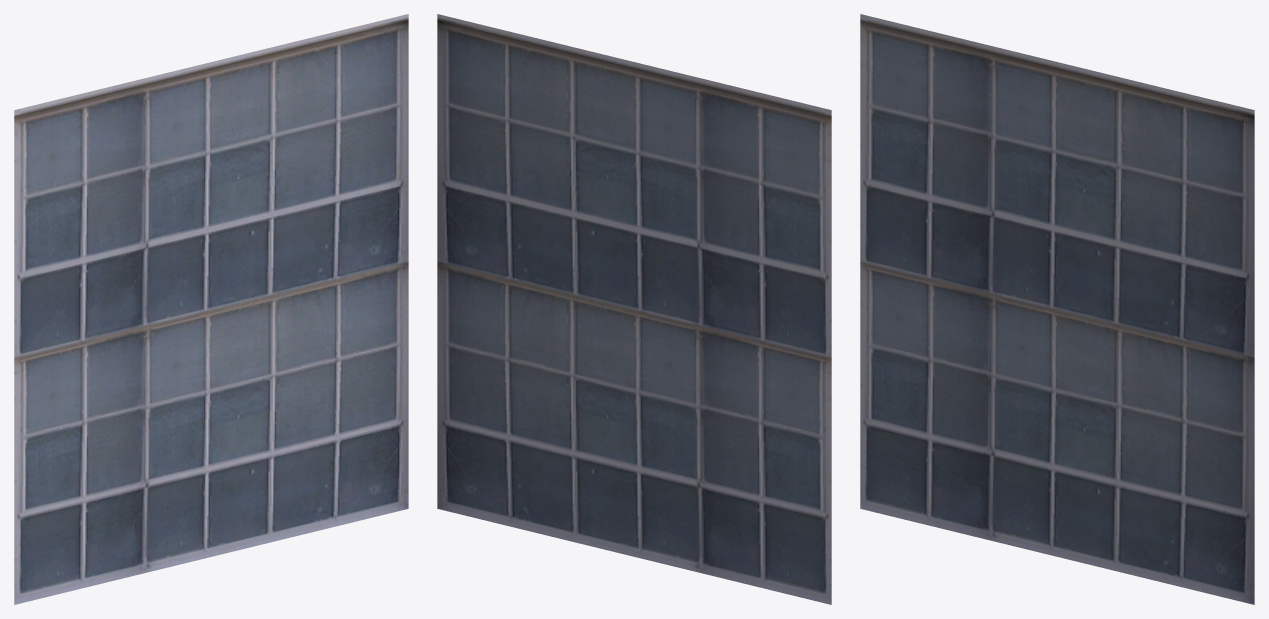
Rendered from des_warewin.obj.
The picture shows the model from 3 angles, left to right: view 1: azimuth 30°, elevation 25°; view 2: azimuth 150°, elevation 25°; view 3: azimuth 330°, elevation 25°; orthographic projection.
Visible parts, largest first — view 1: des_warewin; view 2: des_warewin; view 3: des_warewin.
Boxes of the visible parts, x1,y1,x2,y2 form: des_warewin: [14, 14, 408, 604]; des_warewin: [437, 14, 831, 604]; des_warewin: [860, 14, 1254, 604].
Bounding box in the file's own units: 2.5 × 3 × 4.8e-05.
1 material, 1 textured.
